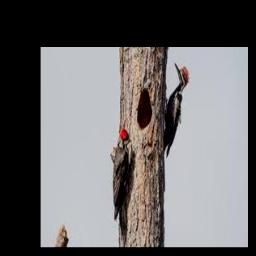Woodpecker: (164, 61, 190, 157), (113, 128, 132, 247)
